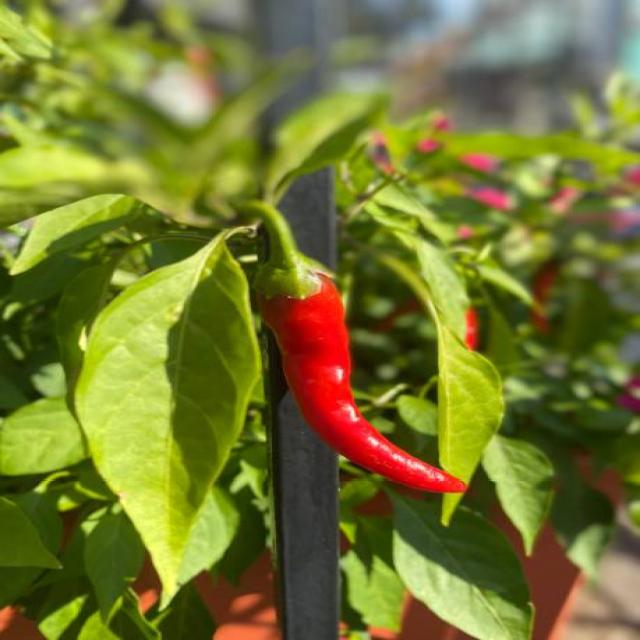Ripe: (264, 273, 466, 492)
